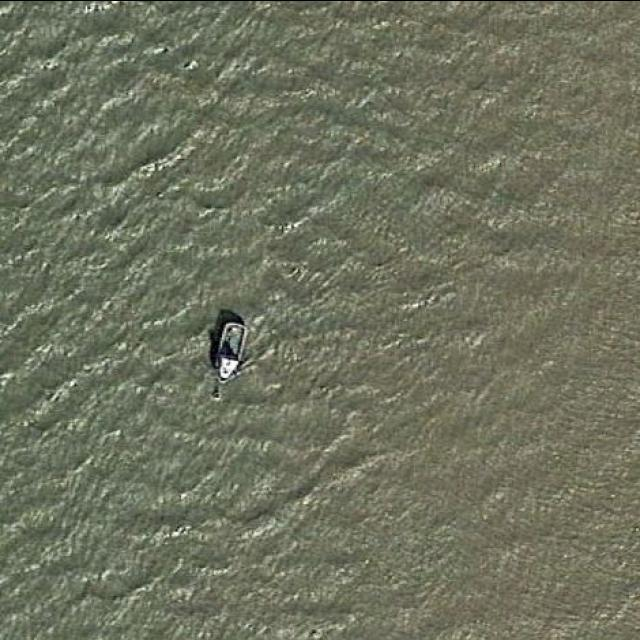ship: (210, 314, 253, 386)
